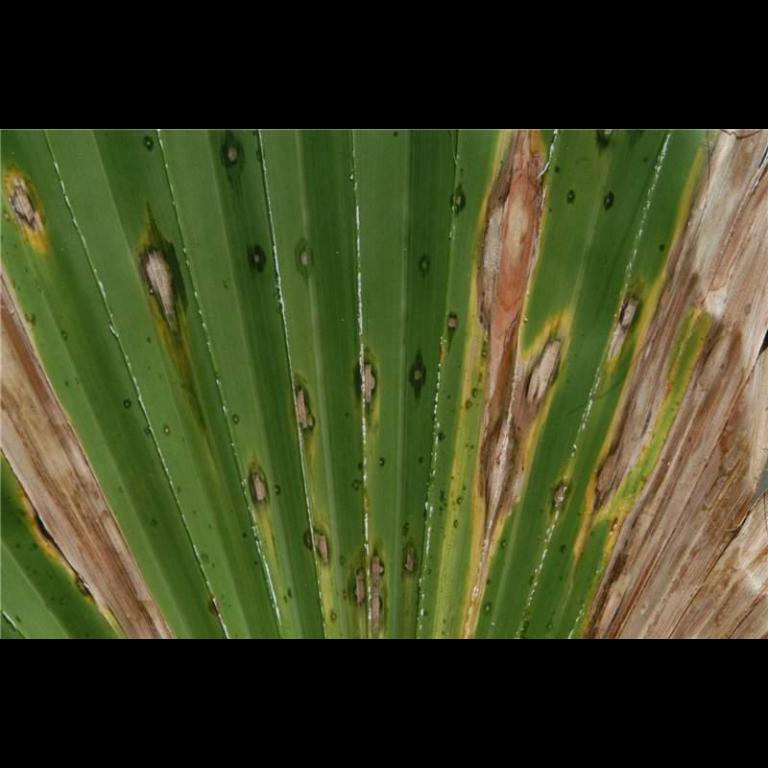blight: (470, 142, 578, 542)
